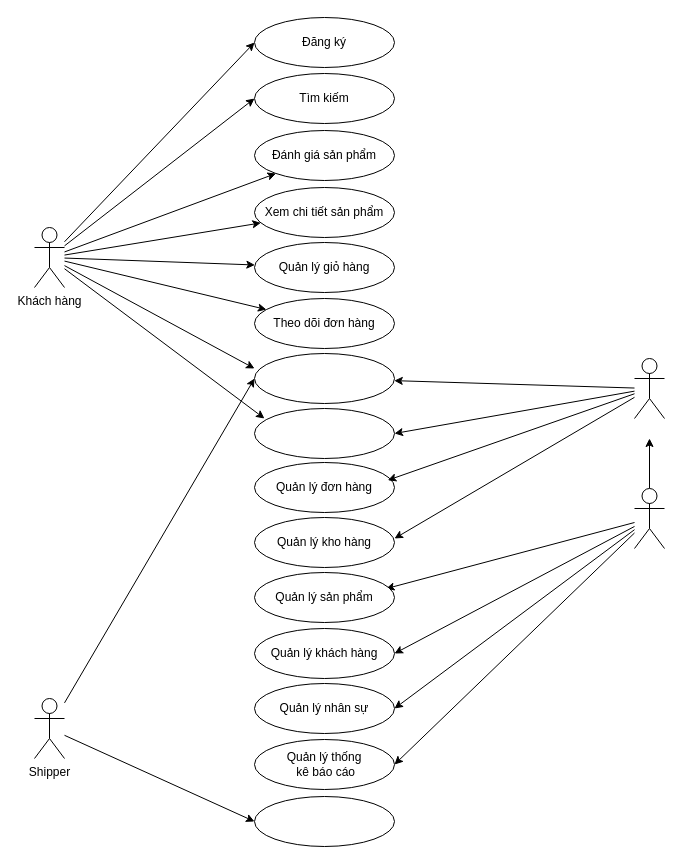
The diagram is 693 pixels wide and 864 high, and some of its shapes have lost their labels. Here are the shapes that lost their labels. From the top down, the centre of each, then its label:
At point (324, 378): "Đăng nhập".
At point (649, 388): "Nhân viên".
At point (324, 433): "Quản lý tài khoản cá nhân".
At point (649, 518): "Quản lý".
At point (324, 821): "Quản lý đơn giao hàng".
